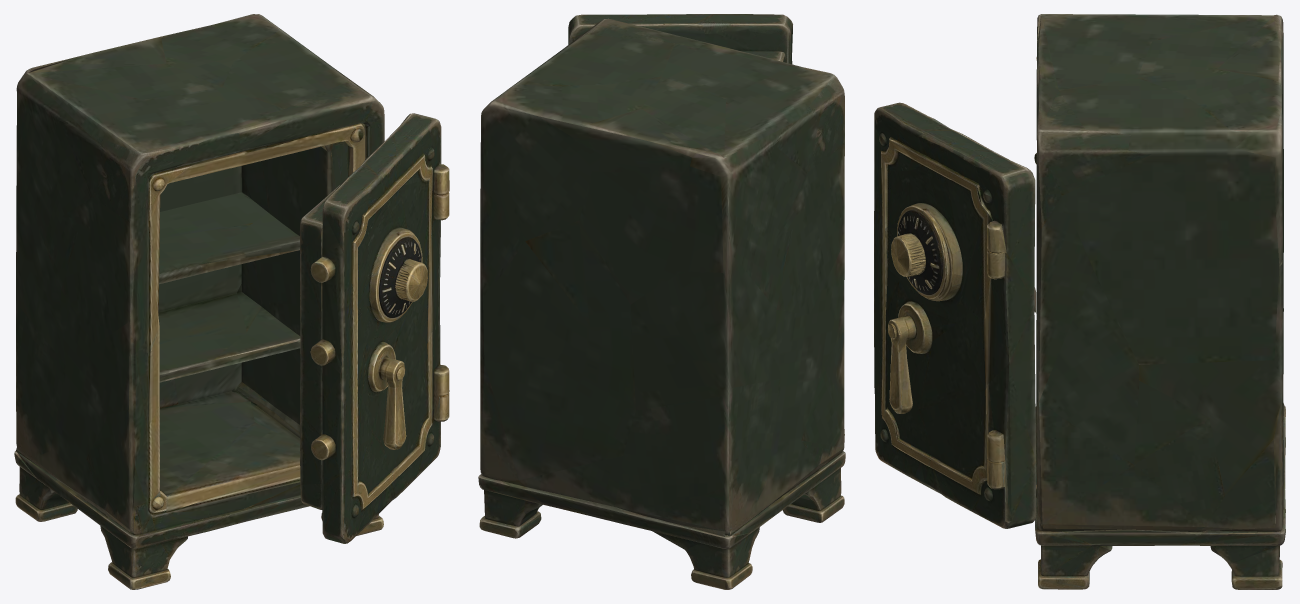
Rendered from safe.glb.
3 views of the same model, side by side, from view 1: azimuth 30°, elevation 25°; view 2: azimuth 150°, elevation 25°; view 3: azimuth 270°, elevation 25° (orthographic). The views are drawn at different scales.
Visible parts, largest first — view 1: Mesh_0; view 2: Mesh_0; view 3: Mesh_0.
Part boxes in pixels (x1,y1,x2,y2): Mesh_0: [14, 14, 449, 589]; Mesh_0: [478, 14, 845, 589]; Mesh_0: [874, 14, 1285, 589].
Size of the model in its own units: 1.36 by 1.9 by 1.56.
Materials: 1 (1 with a texture image).
